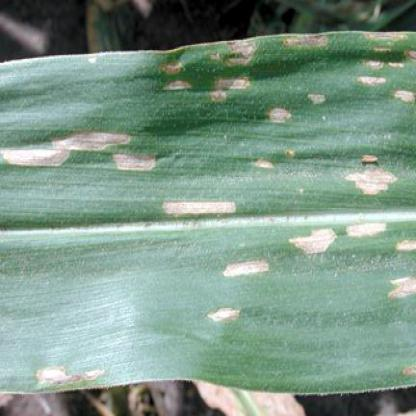corn gray leaf spot: (3, 24, 412, 410)
